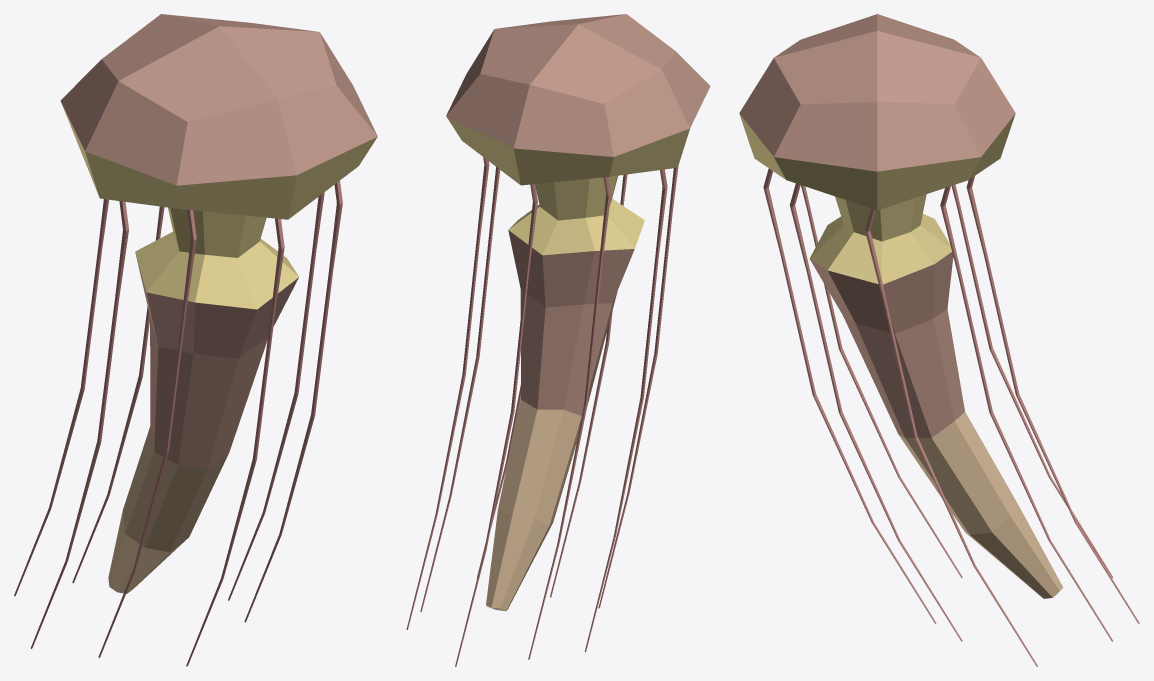
File: Jellyfish.glb
The picture shows the model from 3 angles, left to right: view 1: azimuth 30°, elevation 25°; view 2: azimuth 150°, elevation 25°; view 3: azimuth 270°, elevation 25°; orthographic projection. The views are drawn at different scales.
Parts seen in each view (by area): view 1: Jellyfish; view 2: Jellyfish; view 3: Jellyfish.
Part boxes in pixels (x1=…): Jellyfish: x1=14, y1=14, x2=377, y2=666; Jellyfish: x1=406, y1=14, x2=710, y2=666; Jellyfish: x1=739, y1=14, x2=1139, y2=666.
Size of the model in its own units: 0.9722 by 2.3 by 1.41.
